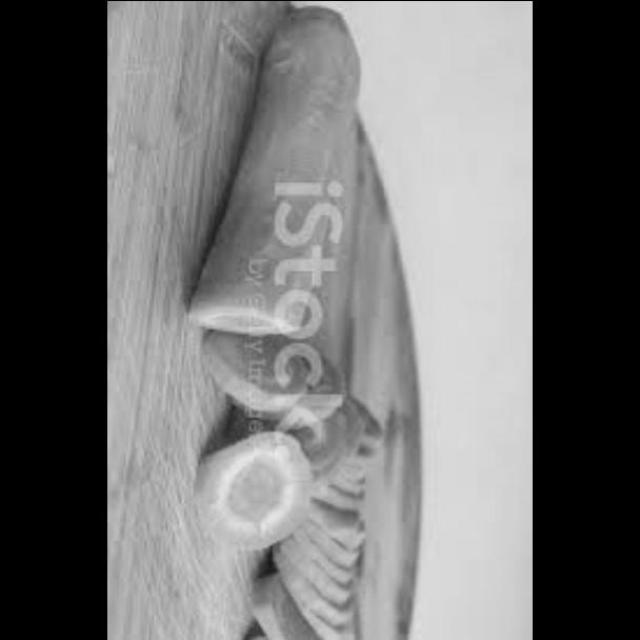ca rot: (180, 5, 376, 338), (198, 346, 385, 639)
